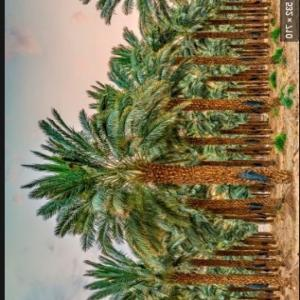palm tree: (20, 0, 290, 299)
